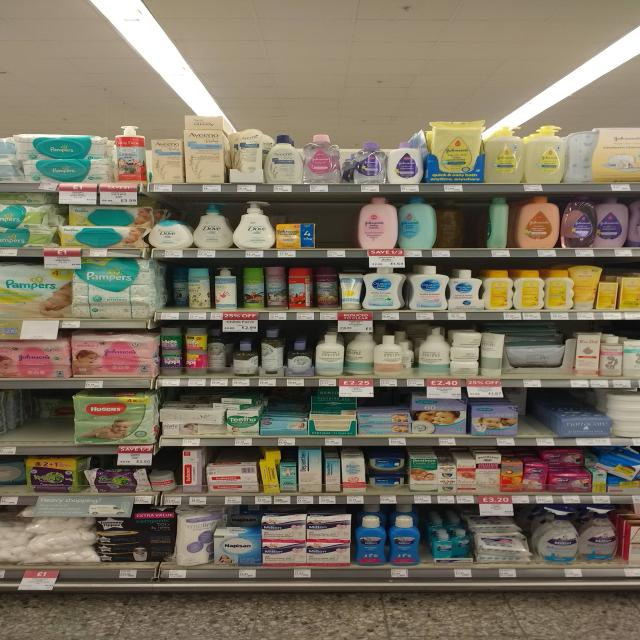void: (319, 195, 355, 249), (525, 416, 560, 436)
